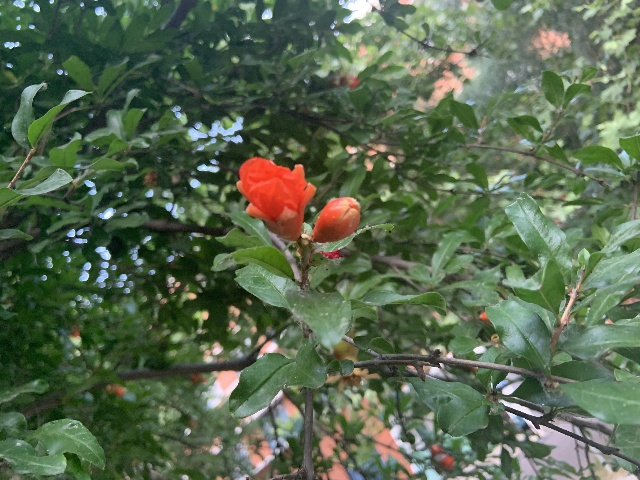bud: (312, 196, 360, 244)
flower: (236, 156, 316, 241)
mid-growth: (324, 327, 381, 394)
